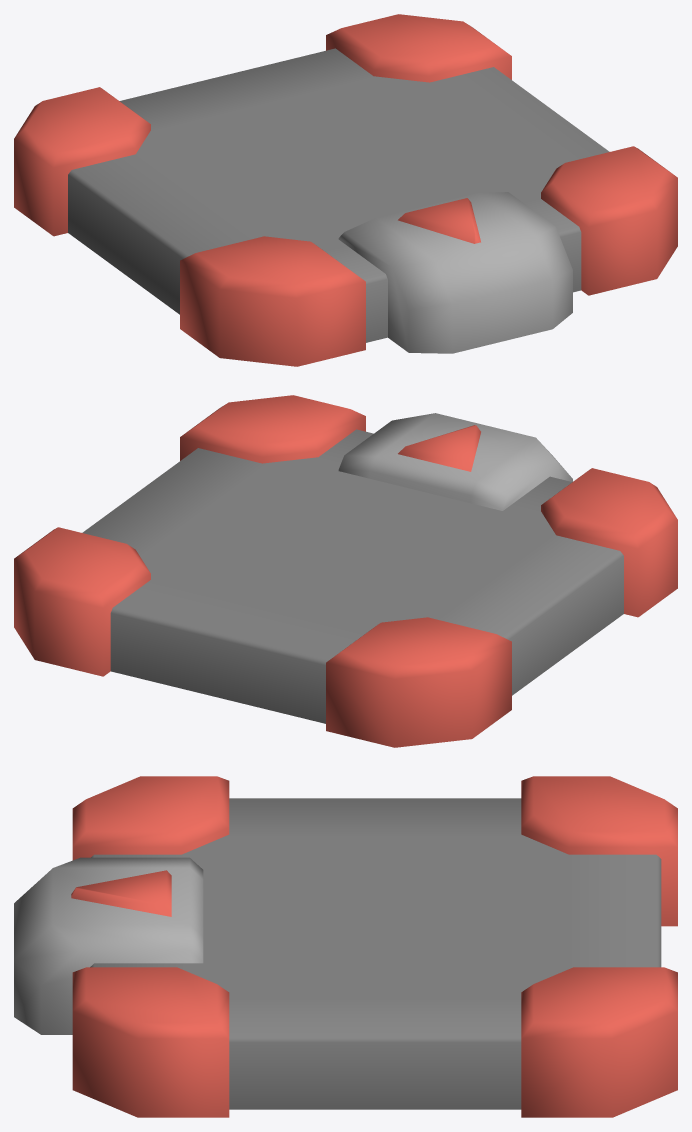
The model's file is RedPieceBasePlate.glb.
3 renders of one model, top to bottom at view 1: azimuth 30°, elevation 25°; view 2: azimuth 150°, elevation 25°; view 3: azimuth 270°, elevation 25°, orthographic. The views are drawn at different scales.
Visible parts, largest first — view 1: Peice Base - Blue; view 2: Peice Base - Blue; view 3: Peice Base - Blue.
Boxes of the visible parts, x1,y1,x2,y2 form: Peice Base - Blue: (14,14,677,366); Peice Base - Blue: (14,395,677,747); Peice Base - Blue: (14,776,677,1117).
Size of the model in its own units: 0.8785 by 0.1605 by 0.9559.
